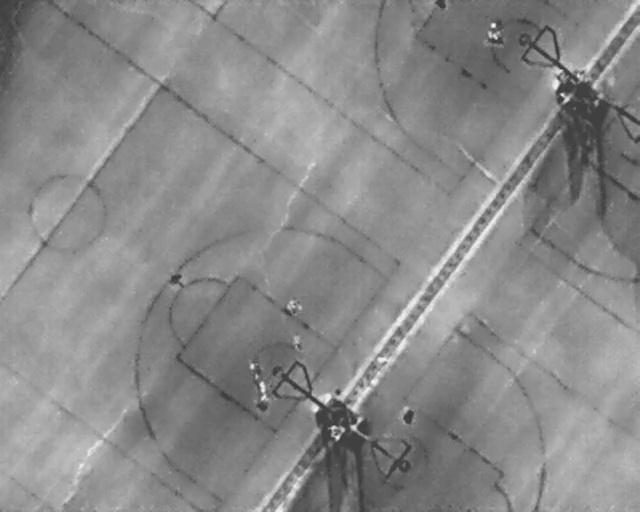Person: (280, 294, 305, 319), (253, 382, 271, 411), (328, 423, 347, 442), (484, 21, 498, 45), (168, 271, 187, 288), (400, 408, 415, 426), (491, 29, 505, 47), (291, 333, 304, 351), (574, 67, 584, 81), (249, 360, 260, 370)
